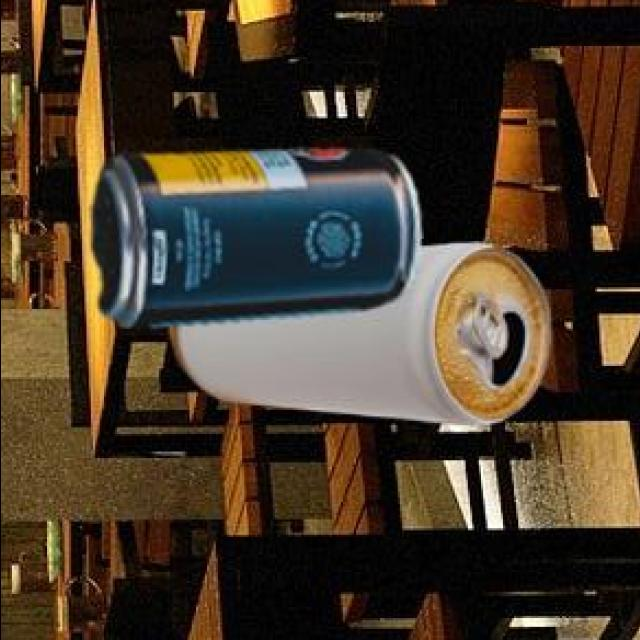logam: (165, 247, 547, 428), (89, 152, 418, 330)
